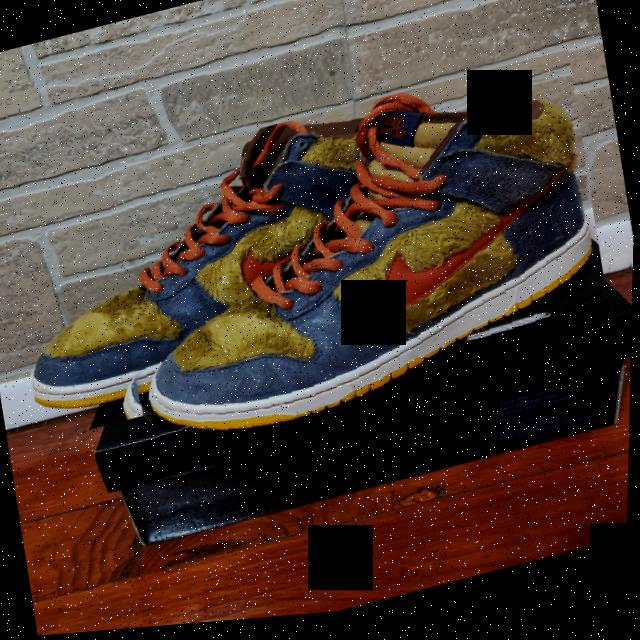shoe: (87, 55, 624, 488), (0, 92, 427, 445)
